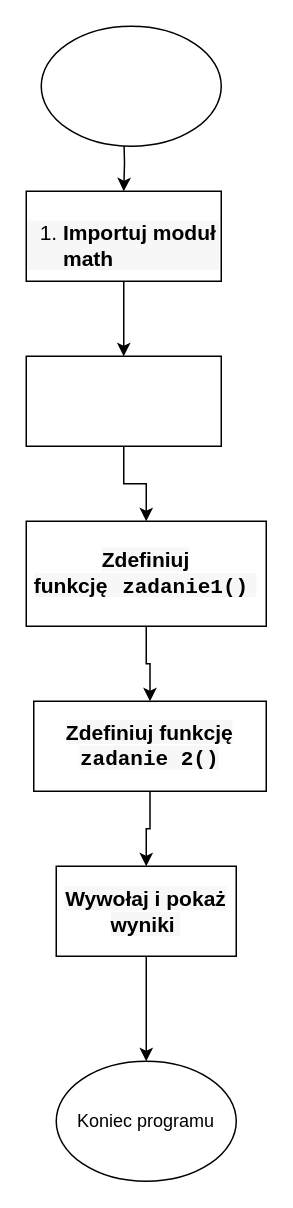
The diagram is 293 pixels wide and 1208 high, and some of its shapes have lost their labels. The shapes that lost their labels are listed below. From the top down, each one's centre as x and y in pixels, then its label:
At pixel 130 85: "Start programu".
At pixel 123 400: "Zdefiniuj funkcję czynniki_pierwsze".
